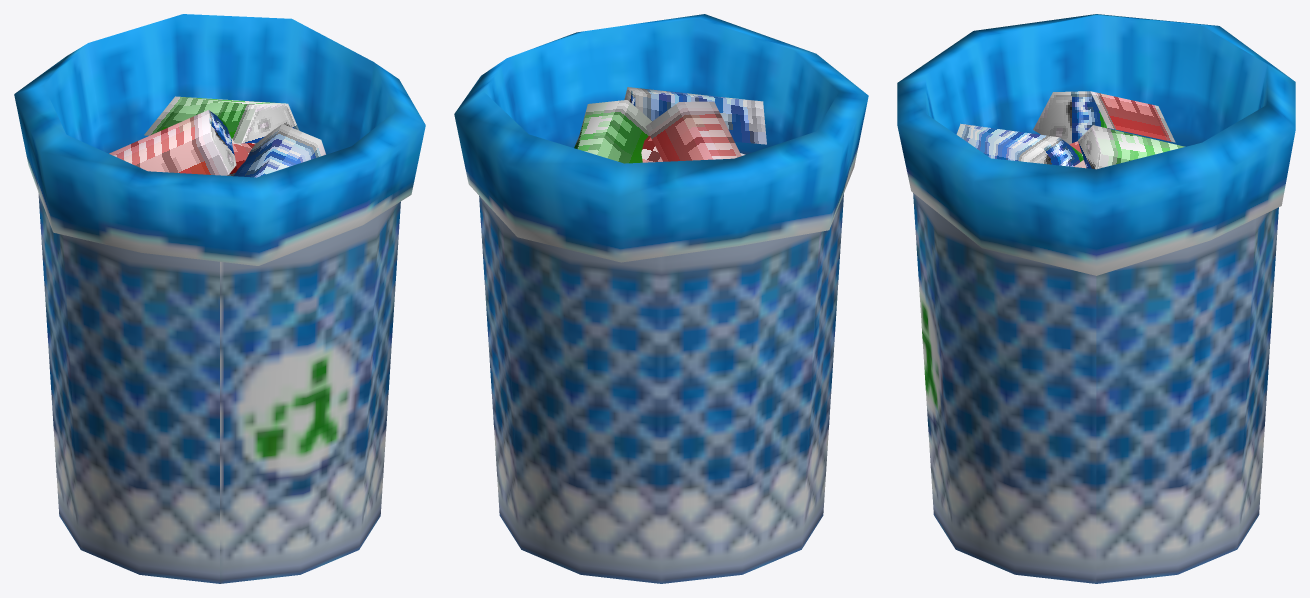
File: int_oth_trash_a.dae
The picture shows the model from 3 angles, left to right: view 1: azimuth 30°, elevation 25°; view 2: azimuth 150°, elevation 25°; view 3: azimuth 270°, elevation 25°; orthographic projection.
Parts seen in each view (by area): view 1: int_oth_trash_a; view 2: int_oth_trash_a; view 3: int_oth_trash_a.
Part boxes in pixels (x1=…): int_oth_trash_a: x1=14, y1=14, x2=425, y2=583; int_oth_trash_a: x1=454, y1=14, x2=868, y2=583; int_oth_trash_a: x1=897, y1=14, x2=1295, y2=583.
Size of the model in its own units: 26.85 by 30.68 by 25.53.
Materials: 3 (3 with a texture image).
